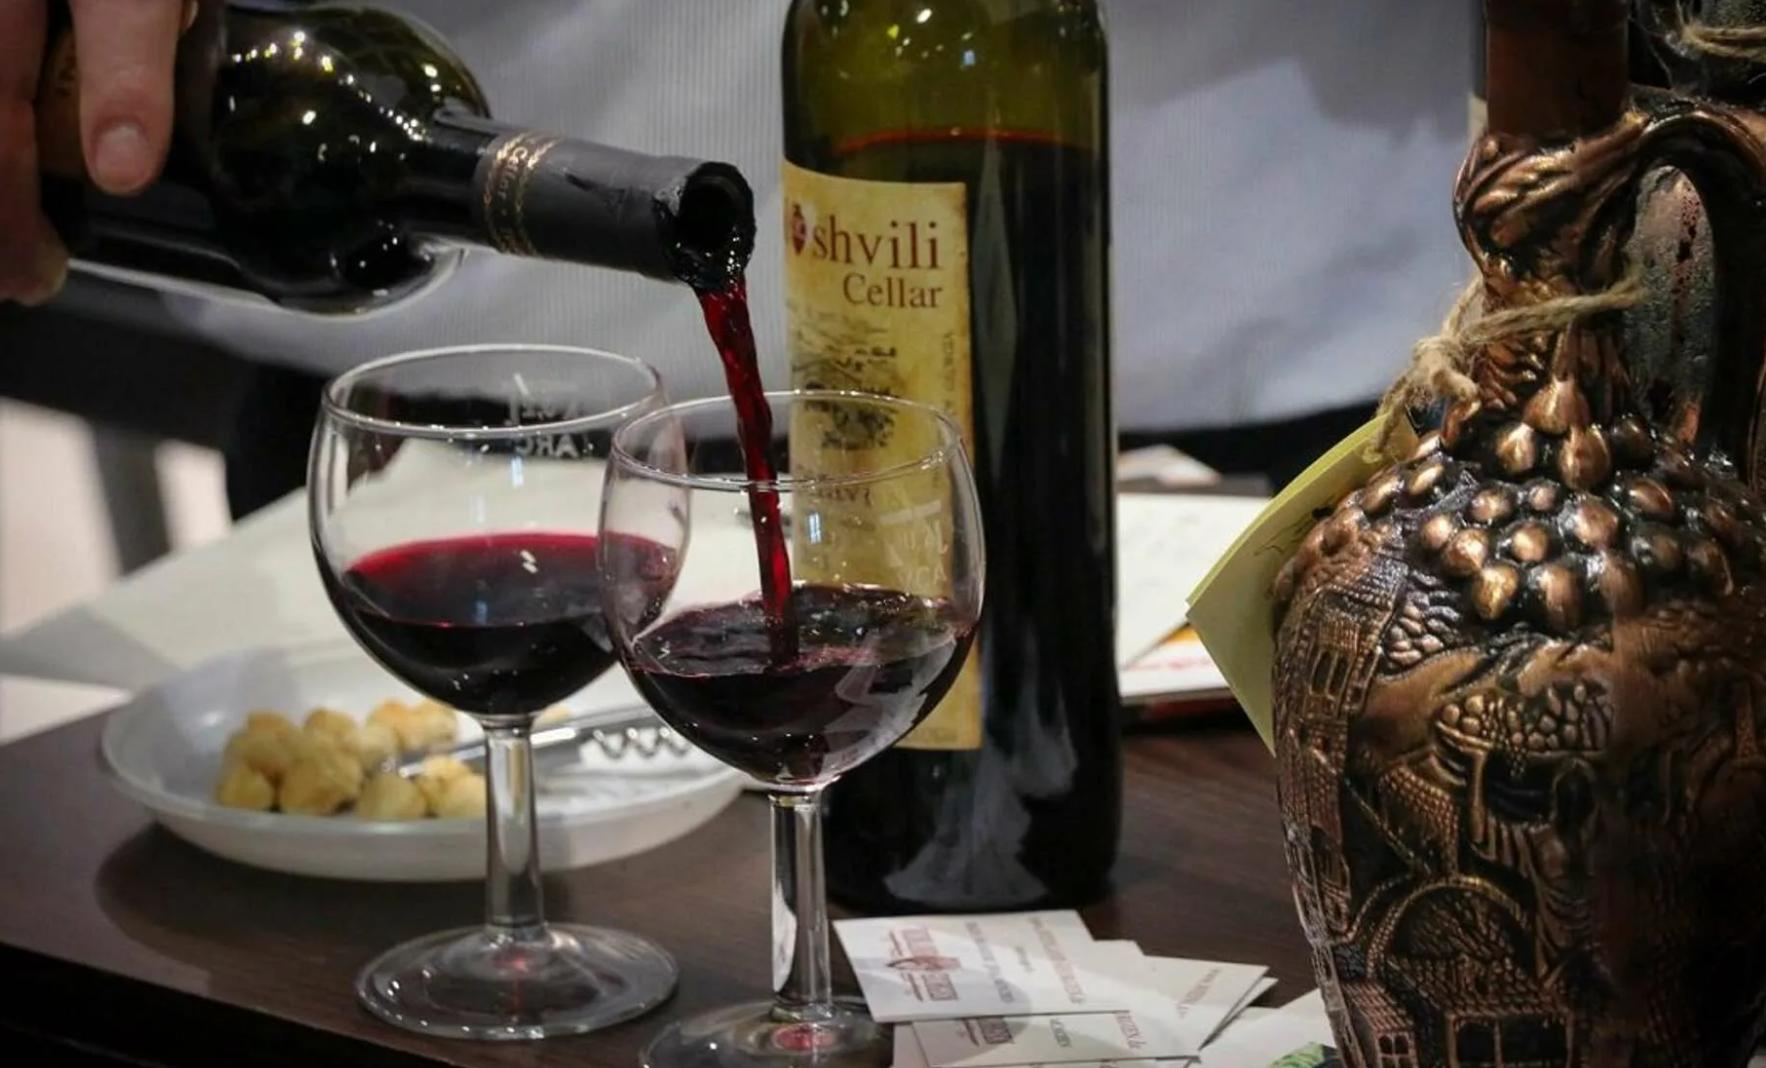wine bottle: (782, 0, 1123, 917)
wine label: (786, 161, 983, 747)
